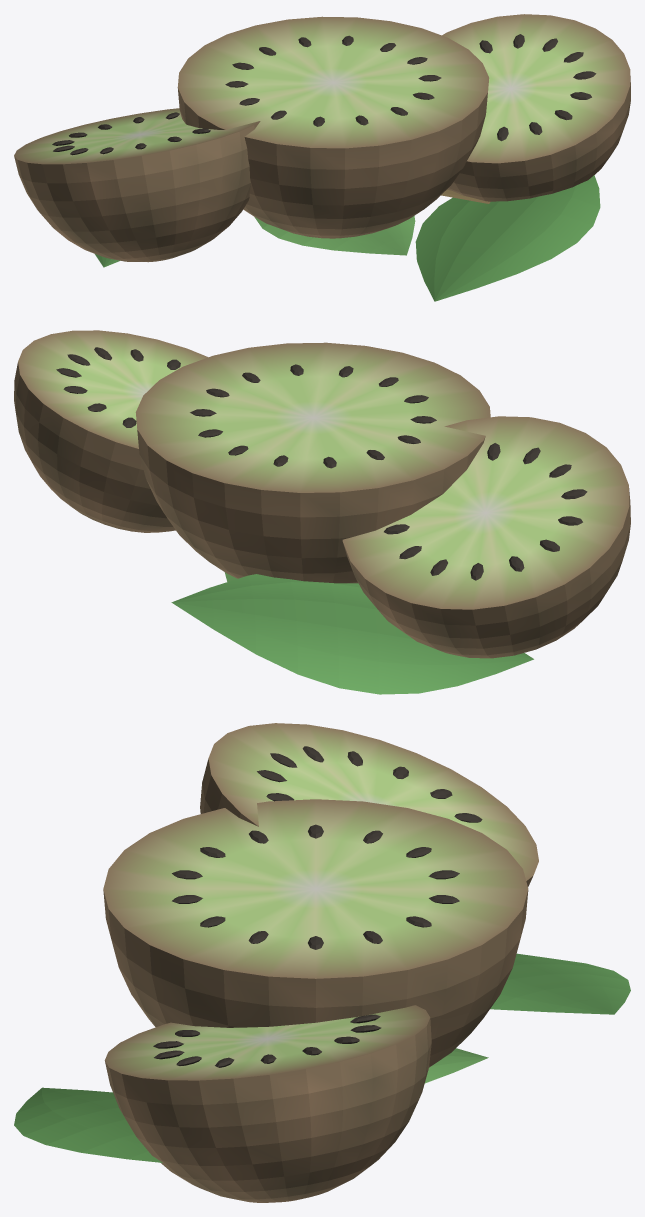
File: Kiwi.glb
The picture shows the model from 3 angles, top to bottom: view 1: azimuth 30°, elevation 25°; view 2: azimuth 150°, elevation 25°; view 3: azimuth 270°, elevation 25°; orthographic projection. The views are drawn at different scales.
Visible parts, largest first — view 1: Kiwi; view 2: Kiwi; view 3: Kiwi.
Boxes of the visible parts, x1=… form: Kiwi: x1=14, y1=14, x2=630, y2=301; Kiwi: x1=14, y1=330, x2=630, y2=694; Kiwi: x1=14, y1=723, x2=630, y2=1202.
Bounding box in the file's own units: 0.8894 × 0.2432 × 0.6386.
